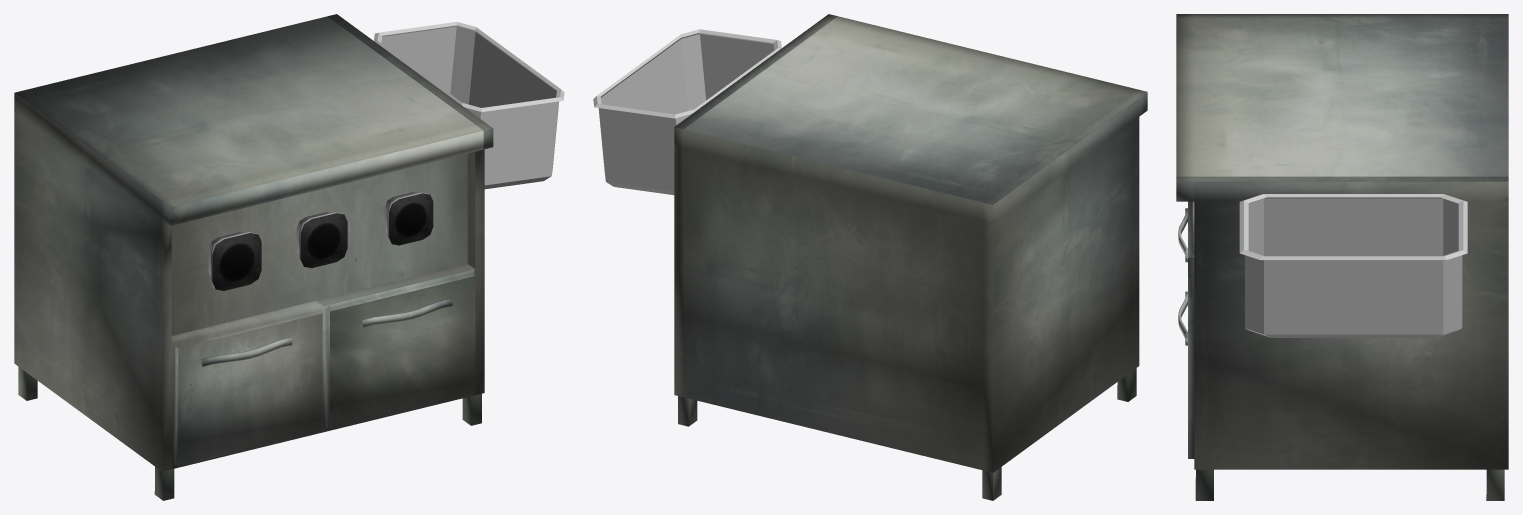
Rendered from DrinkShelf.fbx.
3 views of the same model, side by side, from view 1: azimuth 30°, elevation 25°; view 2: azimuth 150°, elevation 25°; view 3: azimuth 270°, elevation 25° (orthographic). The views are drawn at different scales.
Visible parts, largest first — view 1: Shelf_C.001; view 2: Shelf_C.001; view 3: Shelf_C.001.
Boxes of the visible parts, <box> form: Shelf_C.001: <box>14,14,564,500</box>; Shelf_C.001: <box>593,14,1147,500</box>; Shelf_C.001: <box>1176,14,1508,500</box>.
Size of the model in its own units: 161 by 107 by 101.
